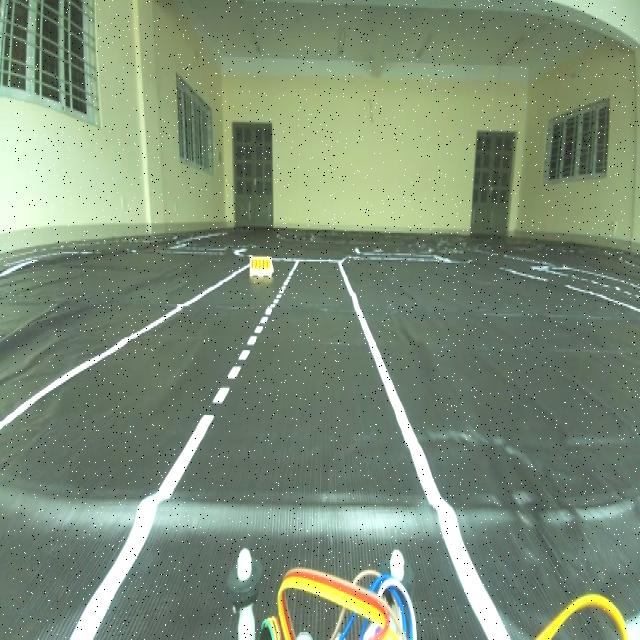roadblock: (246, 247, 270, 273)
